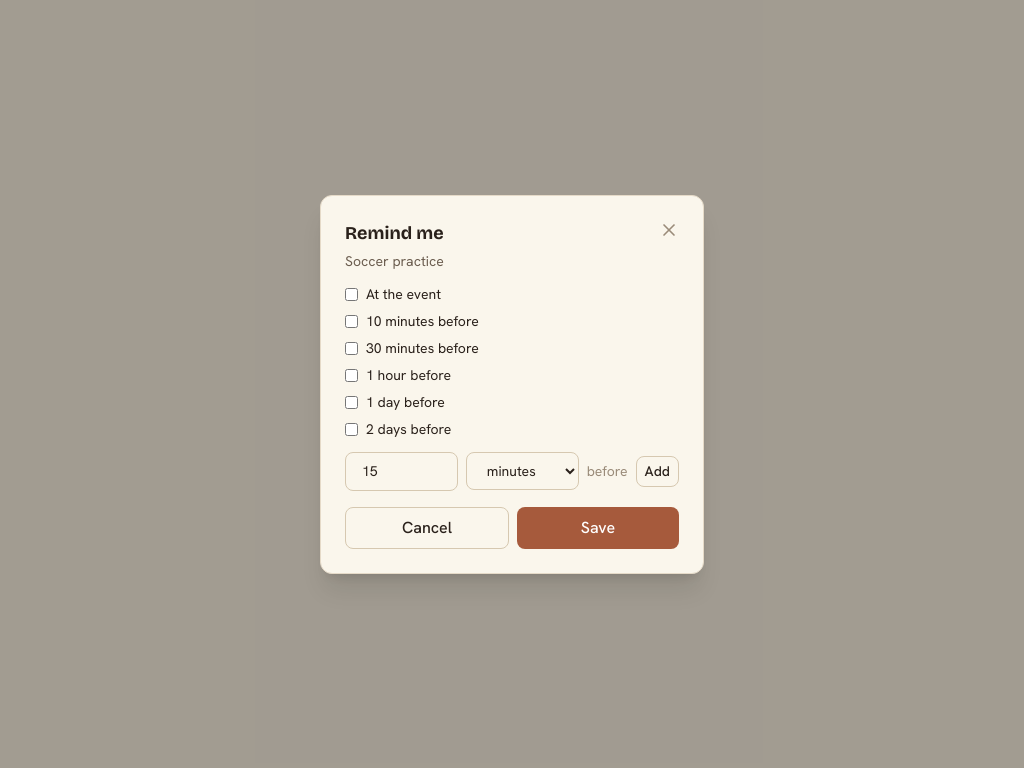
Test: EventReminderDialog › surfaces an error and stays open when a create fails
Click the checkbox labelled "1 hour before".
click(352, 375)  # box x1=345 y1=368 x2=358 y2=382
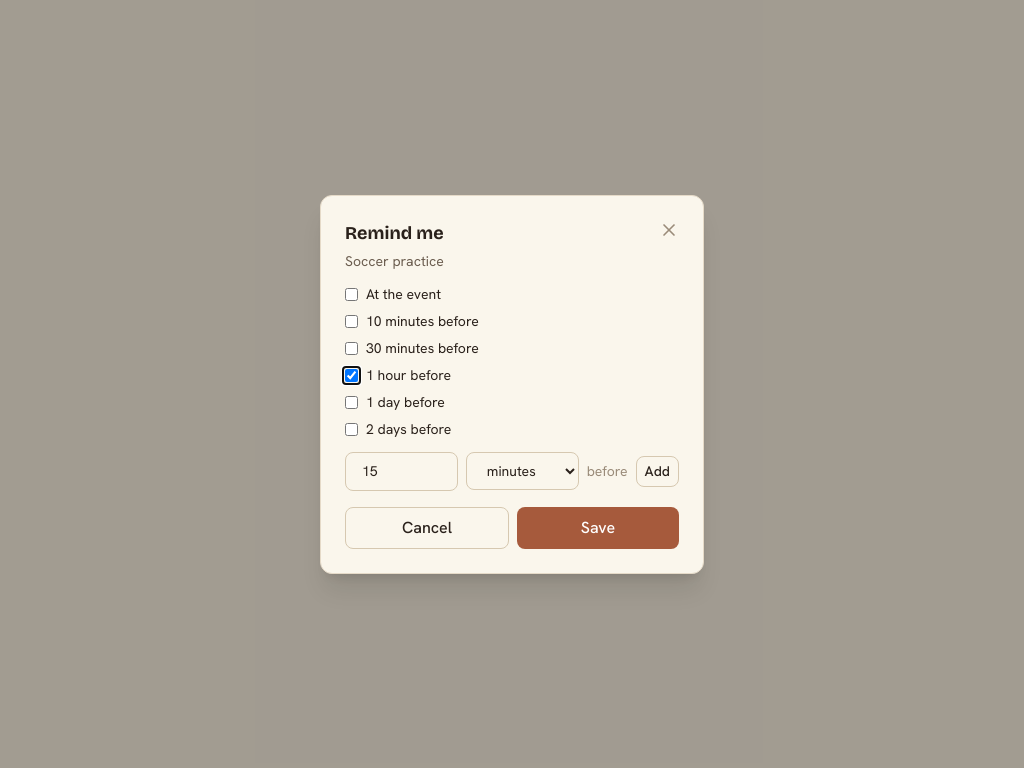
Click the button "Save".
click(598, 528)  # box x1=517 y1=506 x2=679 y2=548
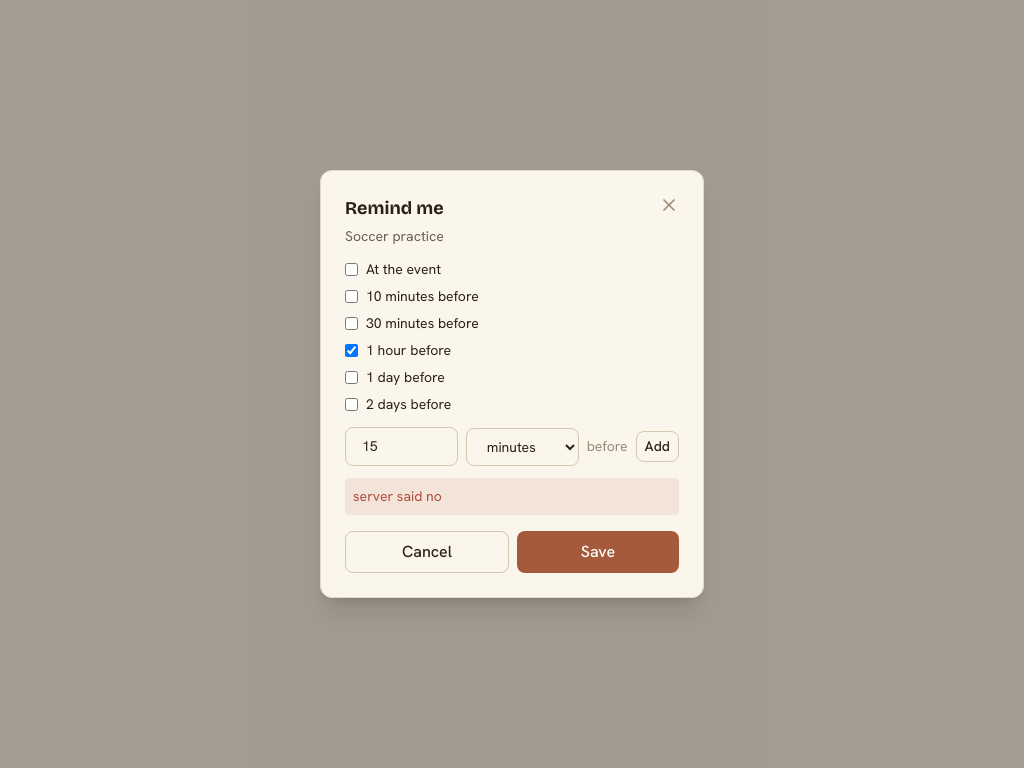
Now the text "server said no" is shown, box x1=345 y1=478 x2=679 y2=515
